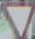Give way: (0, 1, 33, 38)
